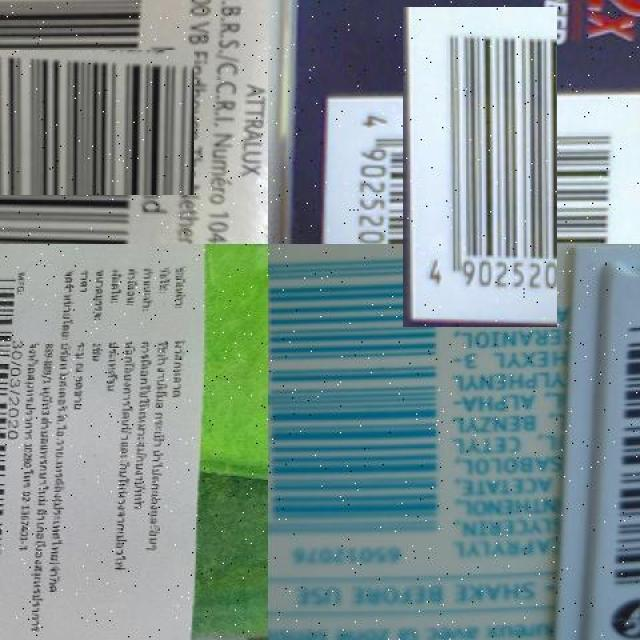Barcode: (268, 244, 457, 544), (361, 48, 599, 285), (0, 25, 169, 220)
